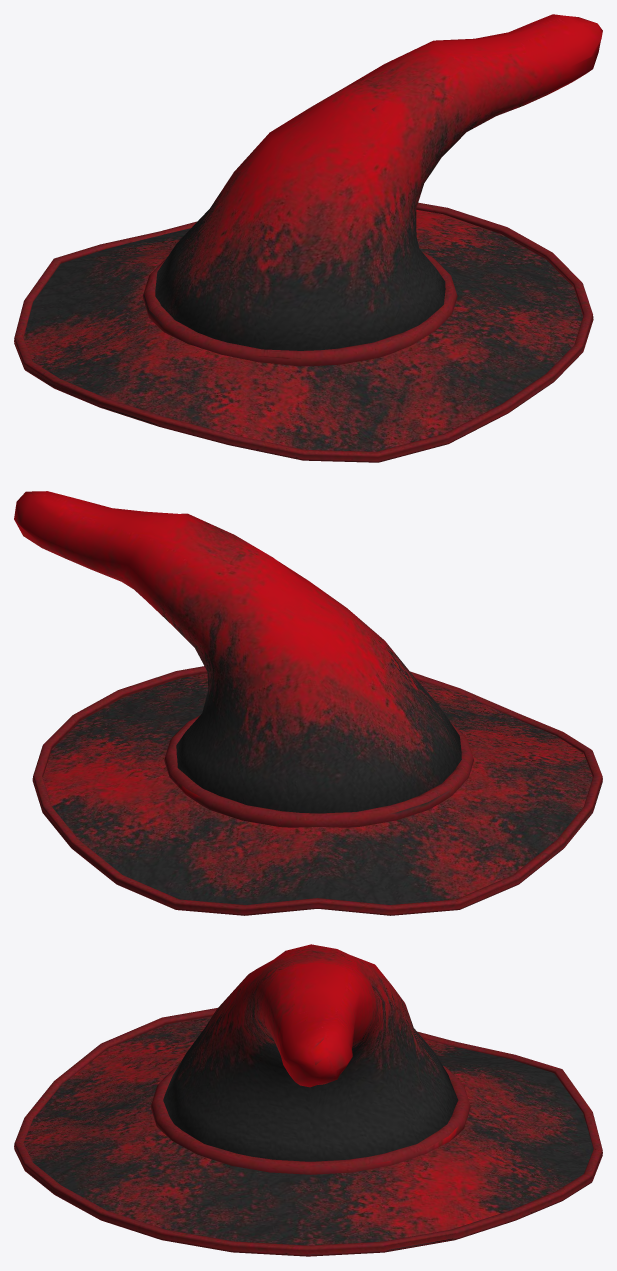
Rendered from HAT2.fbx.
The picture shows the model from 3 angles, top to bottom: view 1: azimuth 30°, elevation 25°; view 2: azimuth 150°, elevation 25°; view 3: azimuth 270°, elevation 25°; orthographic projection. The views are drawn at different scales.
Parts seen in each view (by area): view 1: Hat2; view 2: Hat2; view 3: Hat2.
Part boxes in pixels (box(x1,y1,x2,y2)): Hat2: box(14, 14, 602, 462); Hat2: box(14, 491, 602, 915); Hat2: box(14, 944, 602, 1256).
Bounding box in the file's own units: 6668 × 2987 × 6045.
